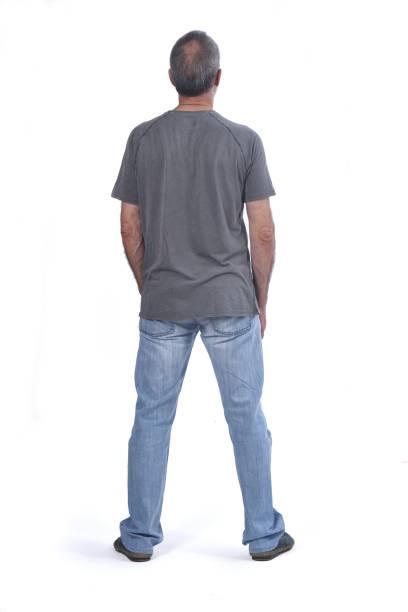Human: (91, 21, 319, 583)
